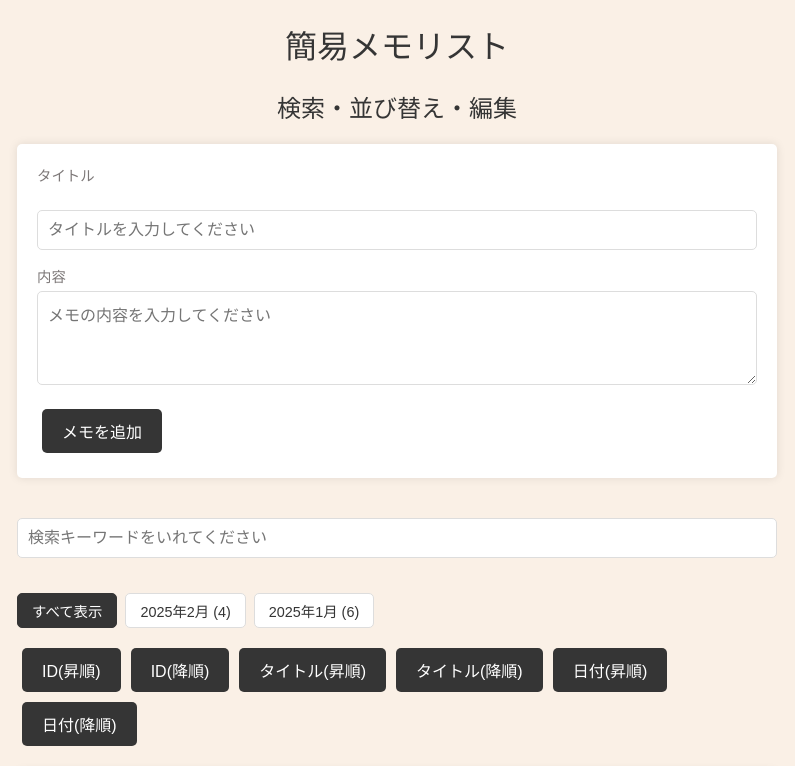
App（メモの追加・編集・削除・永続化） › メモを追加すると一覧に表示され、localStorageにも保存される
Type "テストで追加したメモ" into the field labelled "タイトル".
click(397, 230); type("テストで追加したメモ")  # box [37,210,757,250]
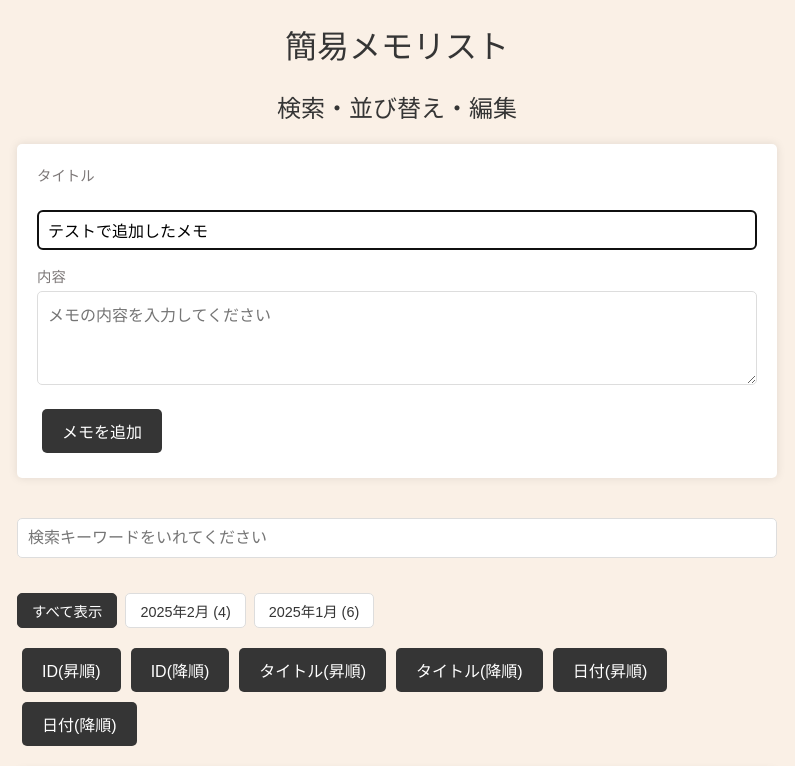
Type "テストの内容" into the text box labelled "内容".
click(397, 338); type("テストの内容")  # box [37,291,757,385]
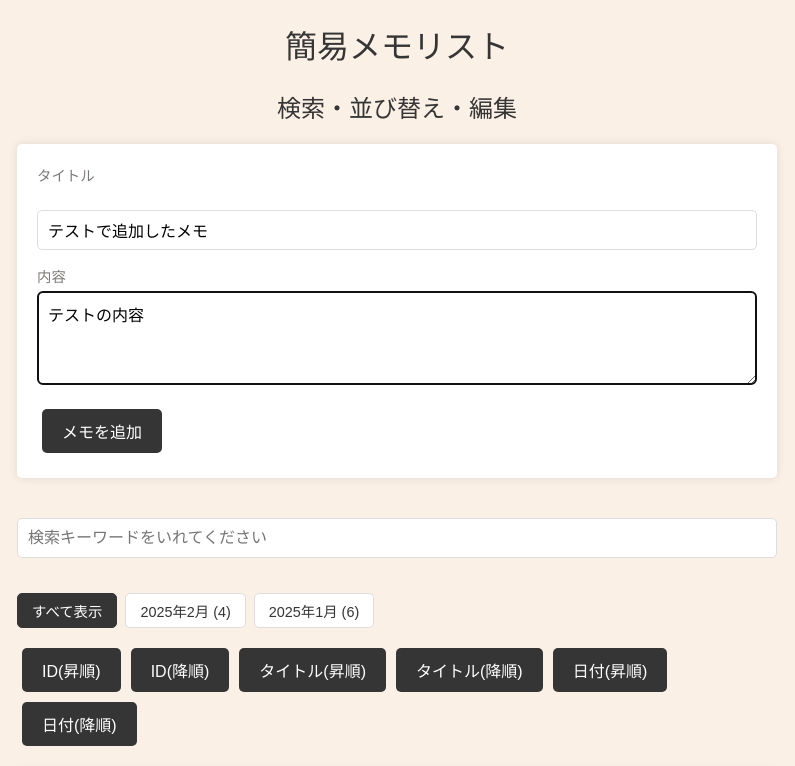
Click the button "メモを追加".
click(102, 431)  # box [42,409,162,453]
(page scrolled)
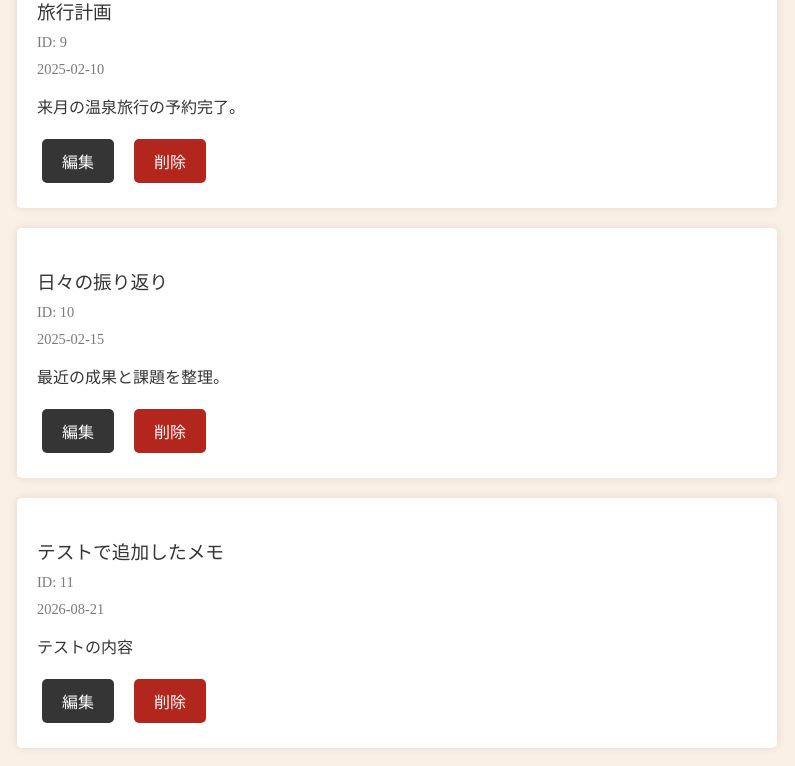
Result: the heading "テストで追加したメモ" is shown at [37,542,224,563]
